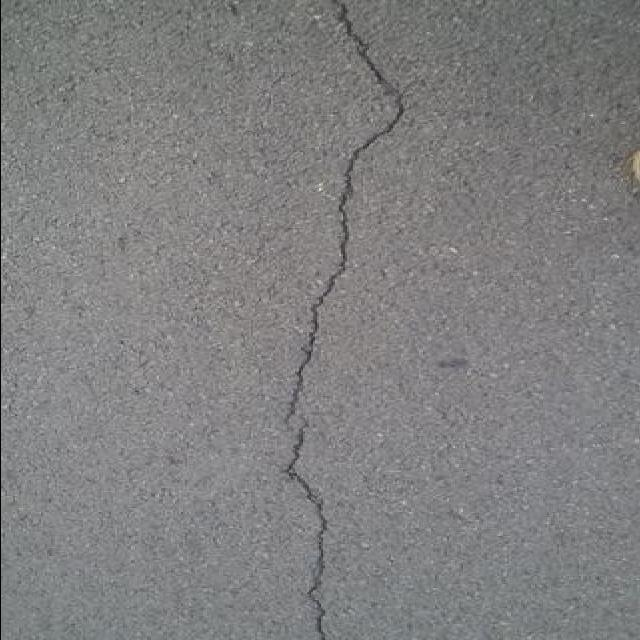Crack: (280, 0, 408, 639)
